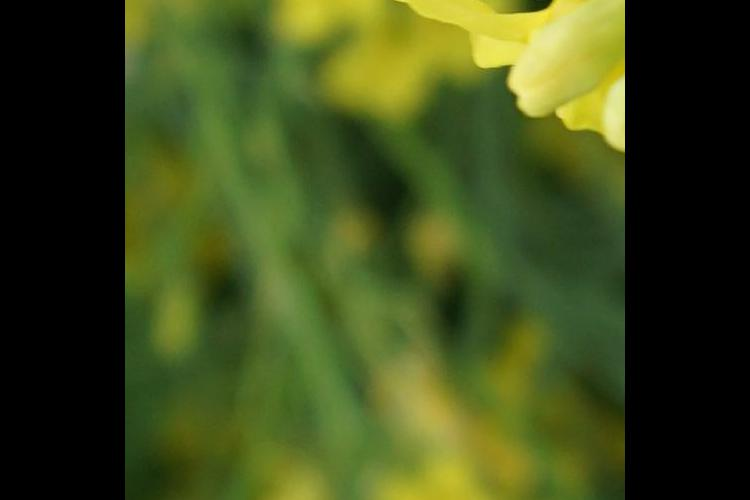yellow: (396, 1, 625, 121)
